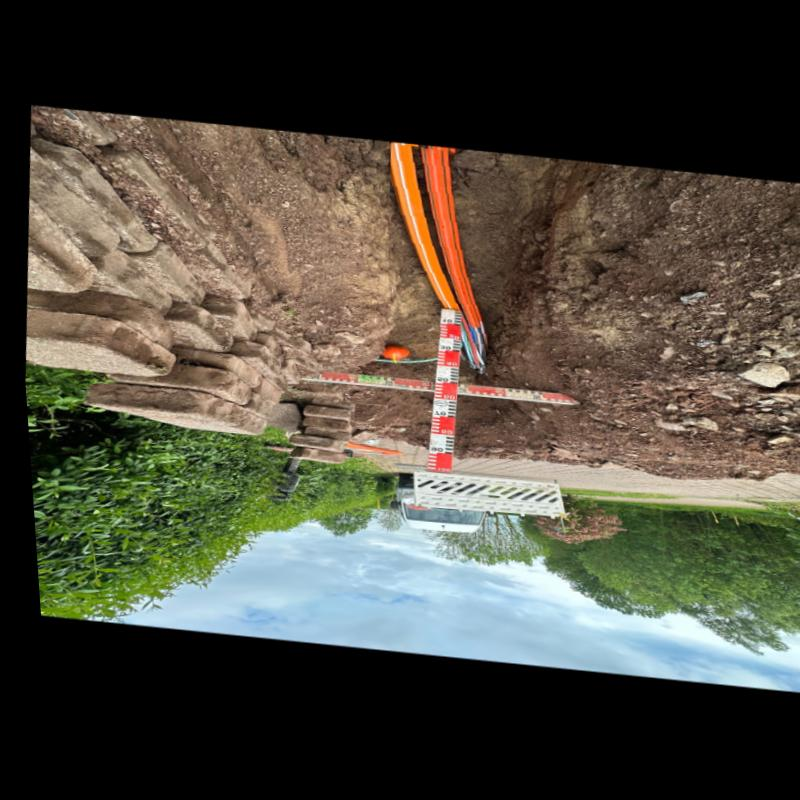Kugelmarker: (376, 344, 405, 358)
Orang-Speednetrohrchen: (388, 142, 483, 343)
